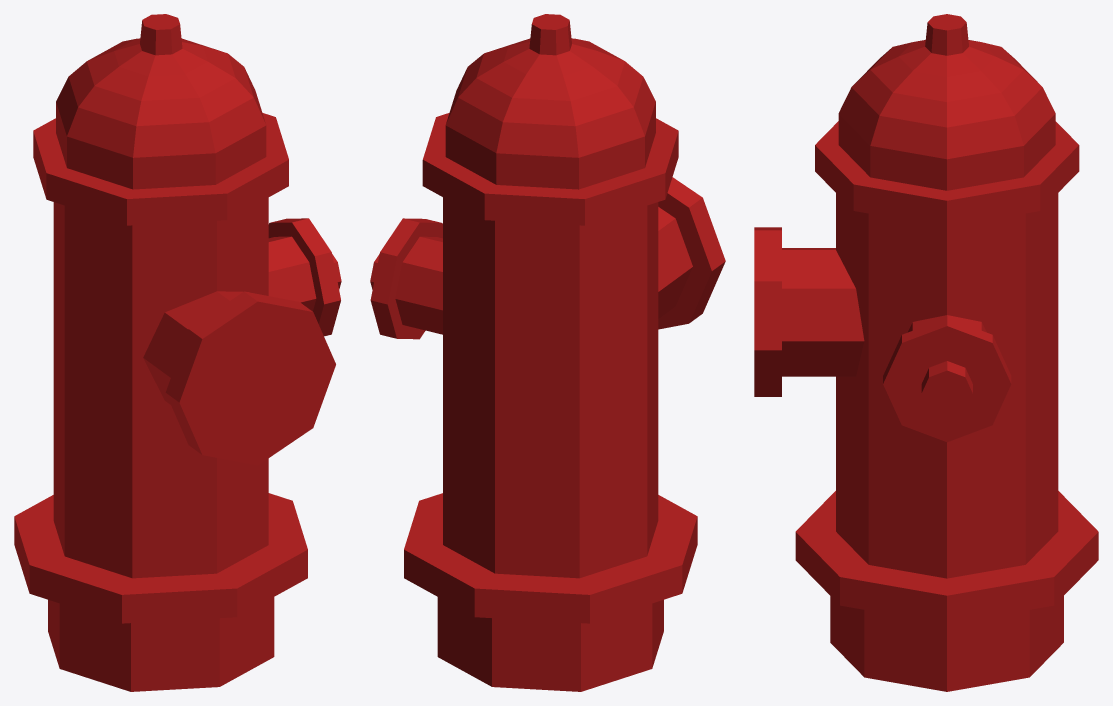
The model's file is SM_BocaIncendios.fbx.
The picture shows the model from 3 angles, left to right: view 1: azimuth 30°, elevation 25°; view 2: azimuth 150°, elevation 25°; view 3: azimuth 270°, elevation 25°; orthographic projection.
Parts seen in each view (by area): view 1: Incendios; view 2: Incendios; view 3: Incendios.
Part boxes in pixels (box(x1,y1,x2,y2)): Incendios: box(14, 14, 341, 691); Incendios: box(370, 14, 725, 691); Incendios: box(754, 14, 1098, 691).
Bounding box in the file's own units: 14.74 × 29.28 × 14.73.
